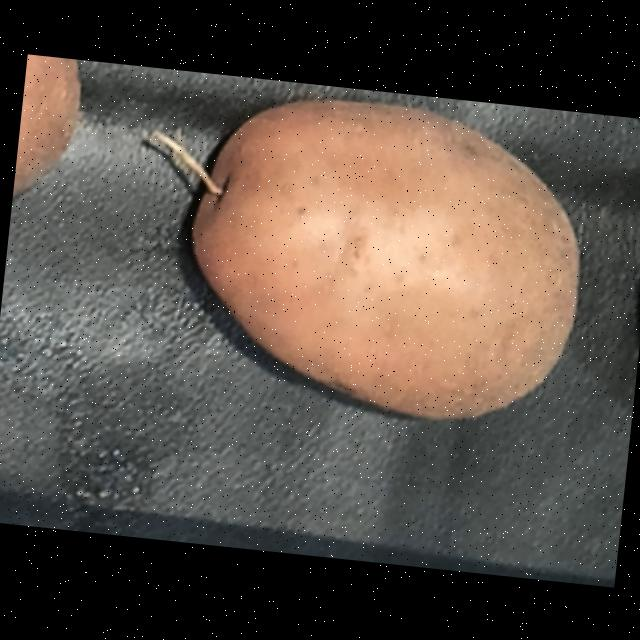Sprouted potato: (162, 72, 610, 445)
